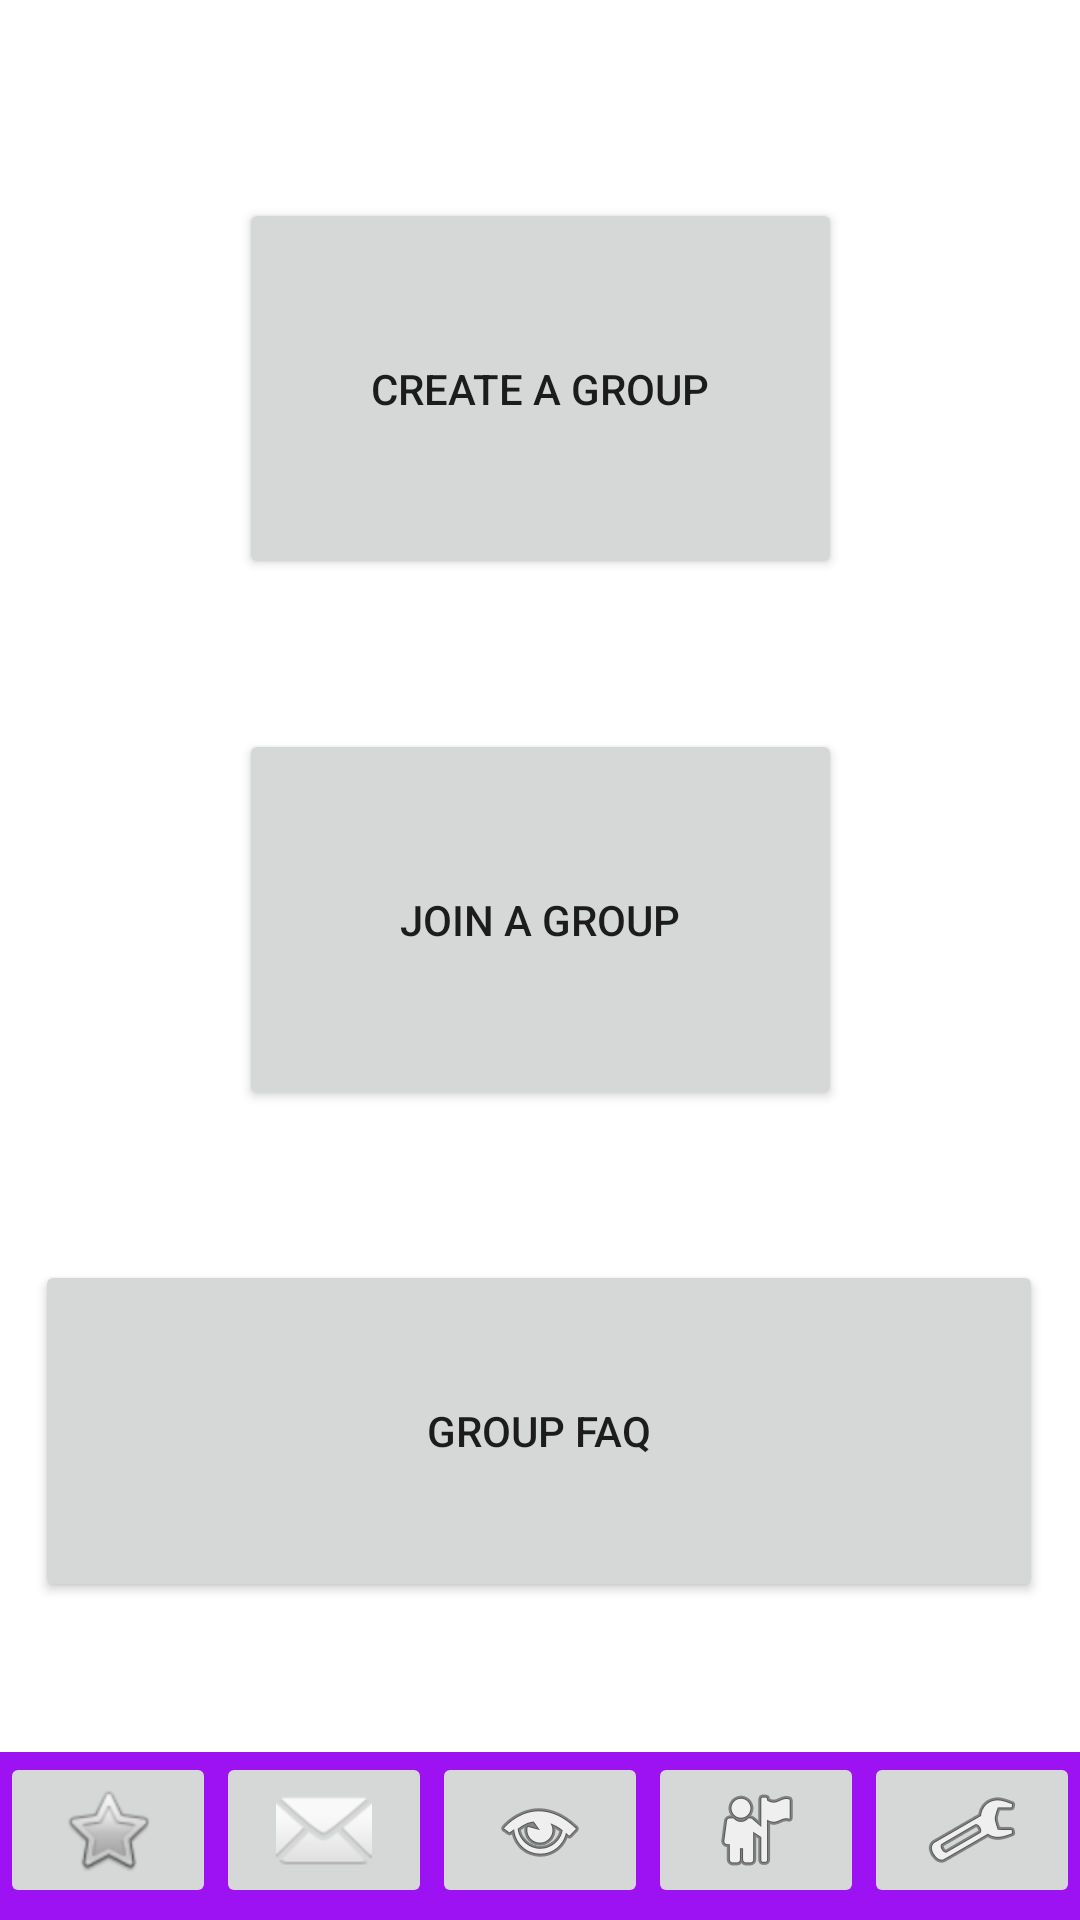

Where to tap for icons on this 1080 × 1920 app screen, as [x,y]:
email: [324,1830]
myplaces: [756,1830]
preferences: [972,1830]
star off: [108,1830]
view: [540,1830]
